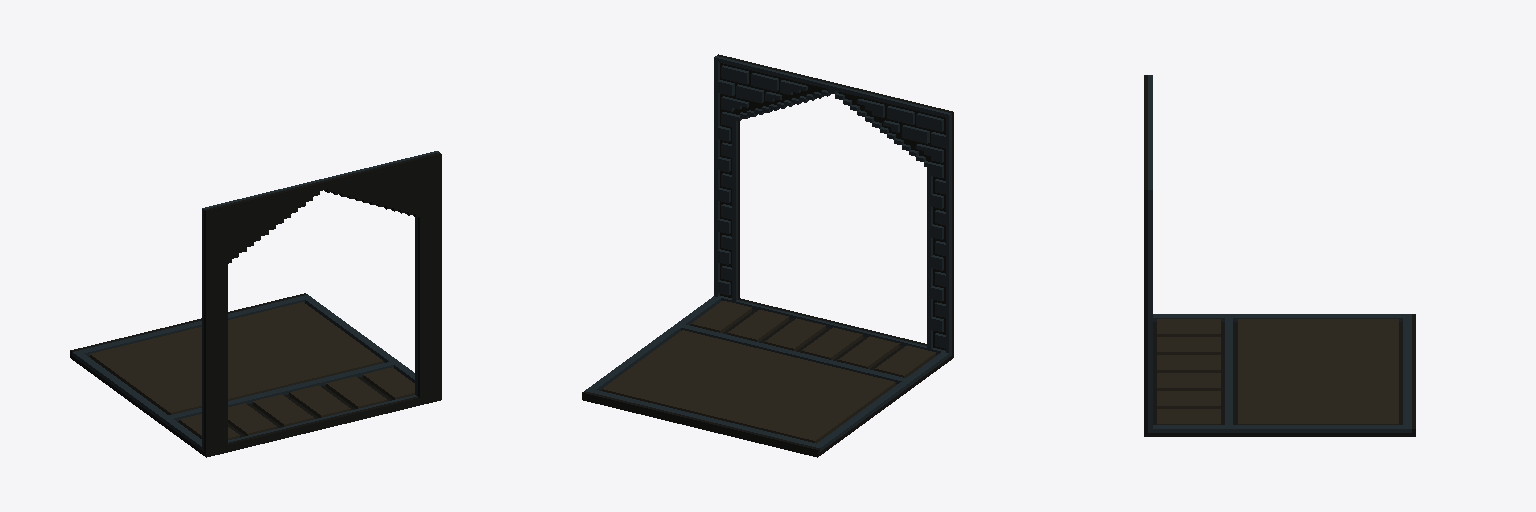
3 views of the same model, side by side, from view 1: azimuth 30°, elevation 25°; view 2: azimuth 150°, elevation 25°; view 3: azimuth 270°, elevation 25° (orthographic).
Visible parts, largest first — view 1: object 1; view 2: object 1; view 3: object 1.
Part boxes in pixels (x1,y1,x2,y2): object 1: (70,151,441,457); object 1: (582,54,953,457); object 1: (1144,75,1415,436).
Size of the model in its own units: 6.4 by 6.4 by 6.4.
1 materials, 1 textured.